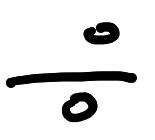div: (9, 22, 136, 123)
